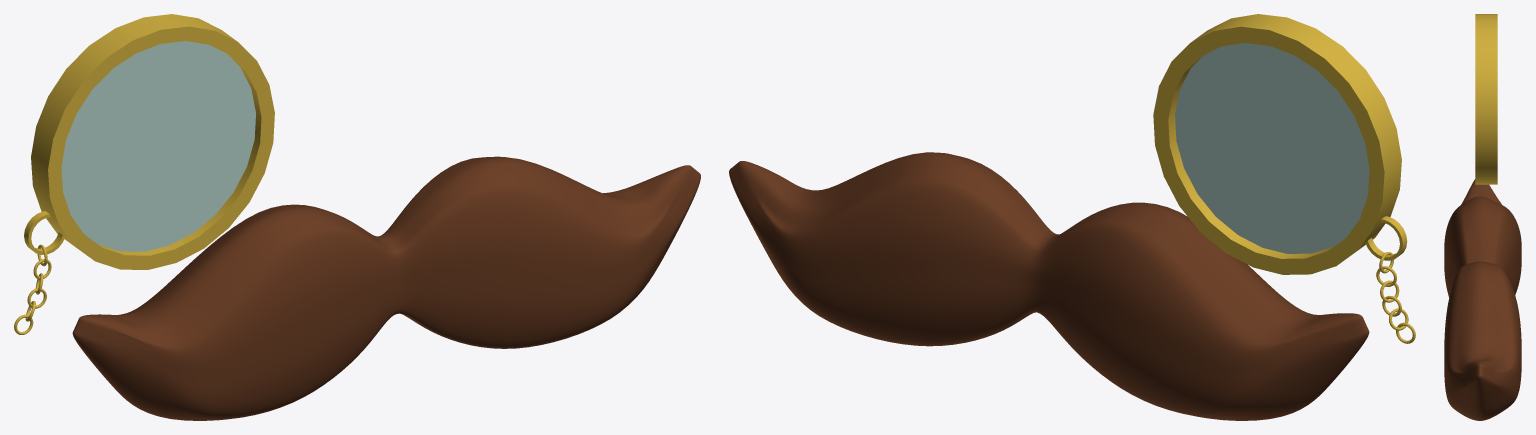
The model's file is Monocle.fbx.
3 renders of one model, left to right at view 1: azimuth 30°, elevation 25°; view 2: azimuth 150°, elevation 25°; view 3: azimuth 270°, elevation 25°, orthographic. The views are drawn at different scales.
Visible parts, largest first — view 1: Monocle; view 2: Monocle; view 3: Monocle.
Part boxes in pixels (left/top/right/bottom): Monocle: left=14, top=14, right=700, bottom=420; Monocle: left=729, top=14, right=1415, bottom=420; Monocle: left=1444, top=14, right=1521, bottom=420.
Size of the model in its own units: 154 by 87.55 by 23.42.
